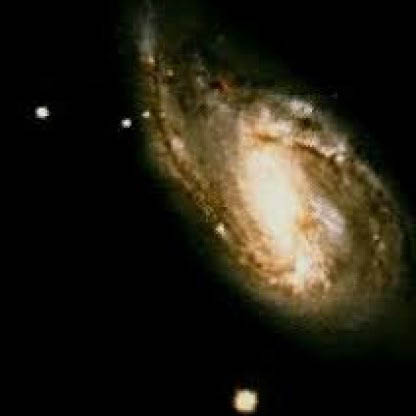Messier 66: (78, 7, 414, 413)
